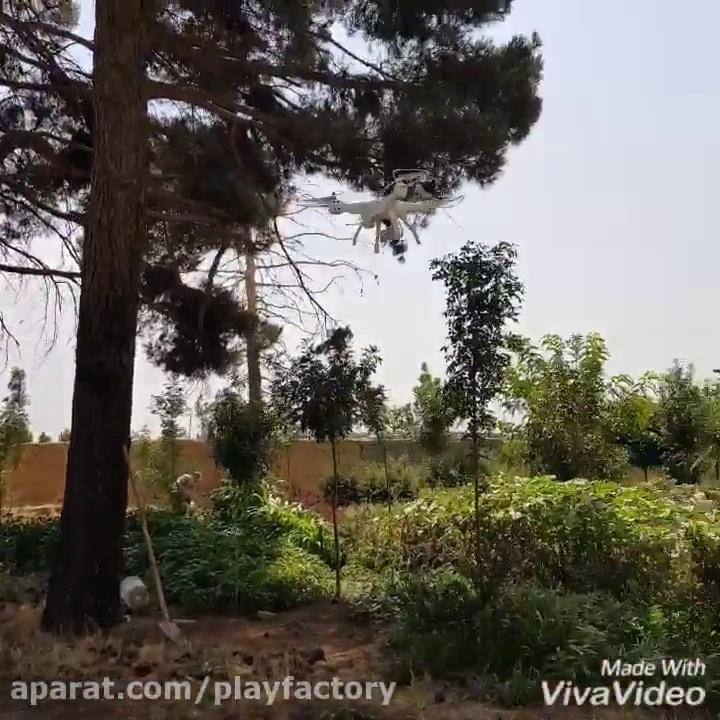drone: (296, 167, 466, 255)
